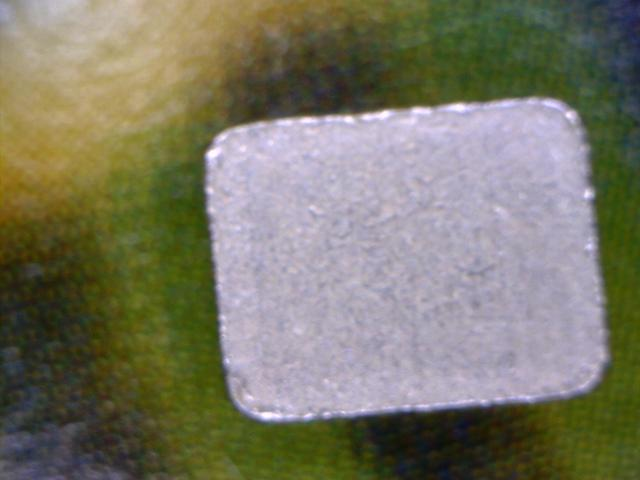ok: (201, 93, 617, 427)
